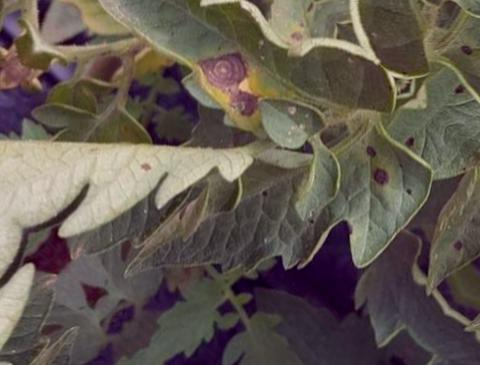Tomato Early blight leaf: (80, 0, 408, 207)
Tomato leaf: (317, 210, 476, 365), (194, 290, 370, 365)
